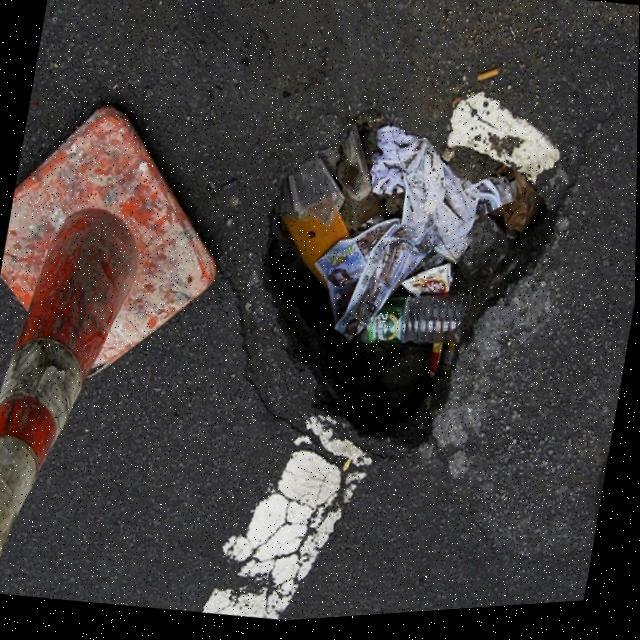pothole: (215, 58, 580, 502)
